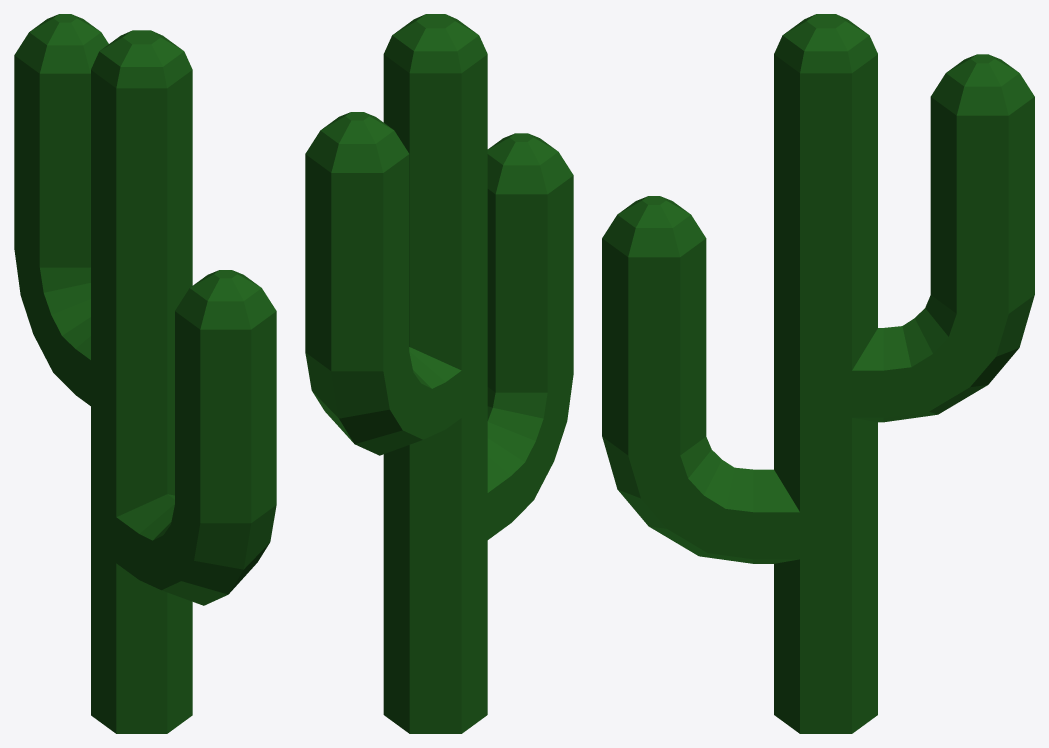
The model's file is Cactus.fbx.
3 renders of one model, left to right at view 1: azimuth 30°, elevation 25°; view 2: azimuth 150°, elevation 25°; view 3: azimuth 270°, elevation 25°, orthographic. The views are drawn at different scales.
Visible parts, largest first — view 1: Cylinder.003, Cylinder.004, Cylinder.005, Cylinder.006, Cylinder.007, Cylinder.001, Cylinder.002, Cylinder; view 2: Cylinder.007, Cylinder.003, Cylinder.001, Cylinder.002, Cylinder.005, Cylinder.004, Cylinder.006, Cylinder; view 3: Cylinder.007, Cylinder.003, Cylinder.004, Cylinder.001, Cylinder.005, Cylinder.002, Cylinder.006, Cylinder.
Part boxes in pixels (x1=…): Cylinder.003: x1=91, y1=30, x2=192, y2=272; Cylinder.004: x1=53, y1=254, x2=192, y2=457; Cylinder.005: x1=175, y1=270, x2=276, y2=449; Cylinder.006: x1=153, y1=431, x2=276, y2=605; Cylinder.007: x1=91, y1=439, x2=192, y2=641; Cylinder.001: x1=14, y1=14, x2=108, y2=193; Cylinder.002: x1=14, y1=175, x2=90, y2=372; Cylinder: x1=91, y1=623, x2=192, y2=733; Cylinder.007: x1=383, y1=432, x2=533, y2=639; Cylinder.003: x1=383, y1=14, x2=487, y2=261; Cylinder.001: x1=305, y1=112, x2=409, y2=295; Cylinder.002: x1=305, y1=277, x2=431, y2=455; Cylinder.005: x1=487, y1=133, x2=573, y2=316; Cylinder.004: x1=404, y1=243, x2=487, y2=450; Cylinder.006: x1=487, y1=298, x2=573, y2=499; Cylinder: x1=383, y1=621, x2=487, y2=733; Cylinder.007: x1=699, y1=432, x2=877, y2=639; Cylinder.003: x1=774, y1=14, x2=877, y2=261; Cylinder.004: x1=774, y1=243, x2=937, y2=450; Cylinder.001: x1=930, y1=54, x2=1034, y2=238; Cylinder.005: x1=602, y1=196, x2=706, y2=379; Cylinder.002: x1=902, y1=219, x2=1034, y2=414; Cylinder.006: x1=602, y1=361, x2=734, y2=555; Cylinder: x1=774, y1=621, x2=877, y2=733.
Size of the model in its own units: 173 by 1470 by 831.
